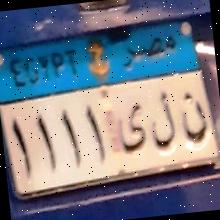1: (83, 98, 109, 166), (33, 112, 59, 175), (59, 107, 84, 172), (9, 115, 34, 176)
laam: (147, 88, 178, 153)
noon: (178, 88, 208, 149)
yaa: (114, 97, 148, 159)
